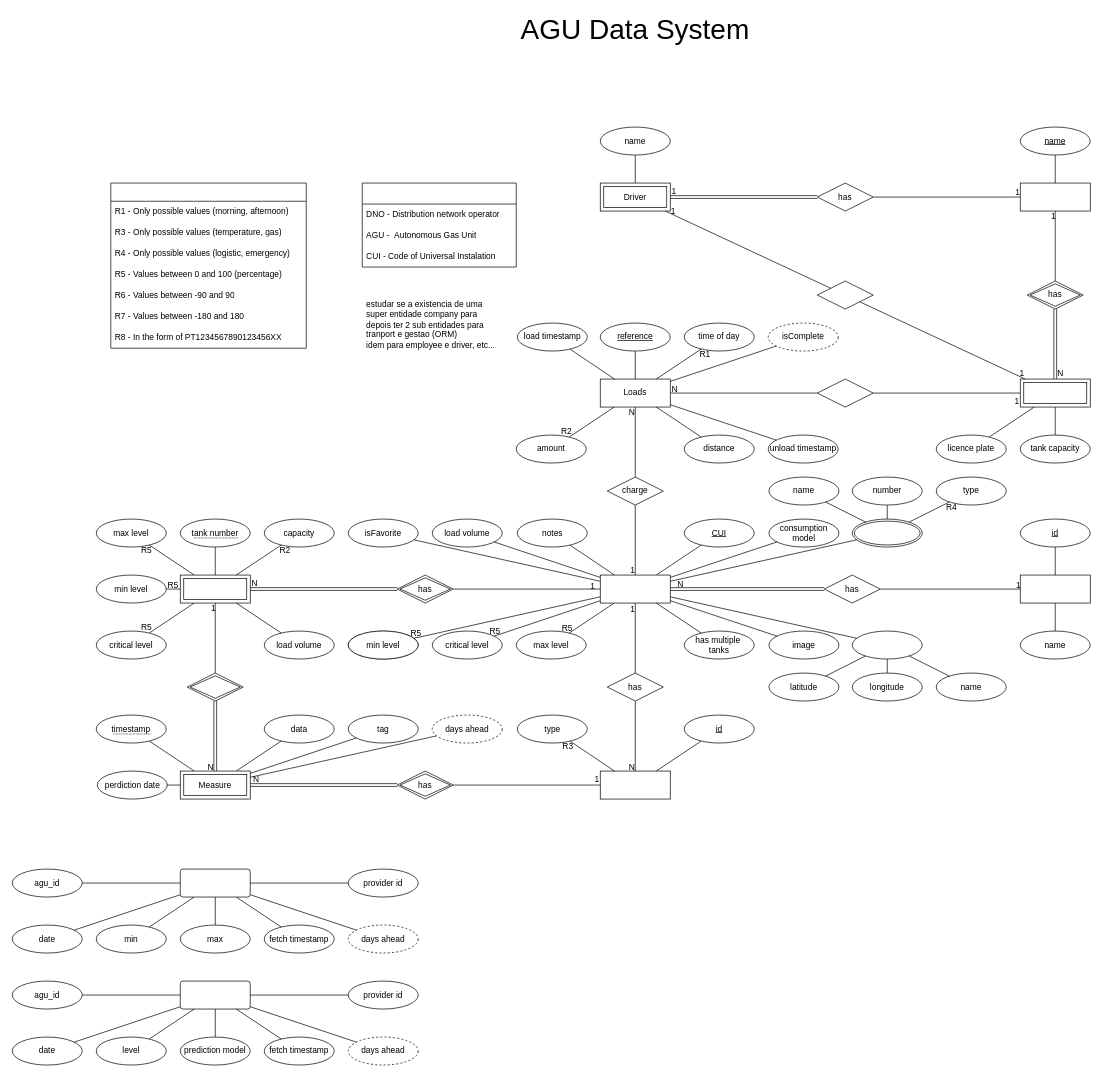
Image size: 1103x1077. Some labels were removed from this diagram. The box of each missing label's shape, as (x1, y1, x2, y2) in pixels:
AGU: (600, 574, 670, 603)
Car: (1020, 378, 1090, 407)
contacts: (852, 518, 922, 547)
DNO: (1020, 574, 1090, 603)
drives: (817, 280, 873, 309)
Gas View: (180, 980, 250, 1009)
gives: (187, 672, 243, 701)
Glossary: (362, 182, 516, 267)
location: (852, 630, 922, 659)
performs: (817, 378, 873, 407)
Provider: (600, 770, 670, 799)
Restrictions: (110, 182, 306, 348)
Tanks: (180, 574, 250, 603)
Temperature view: (180, 868, 250, 897)
Transport Company: (1020, 182, 1090, 211)
